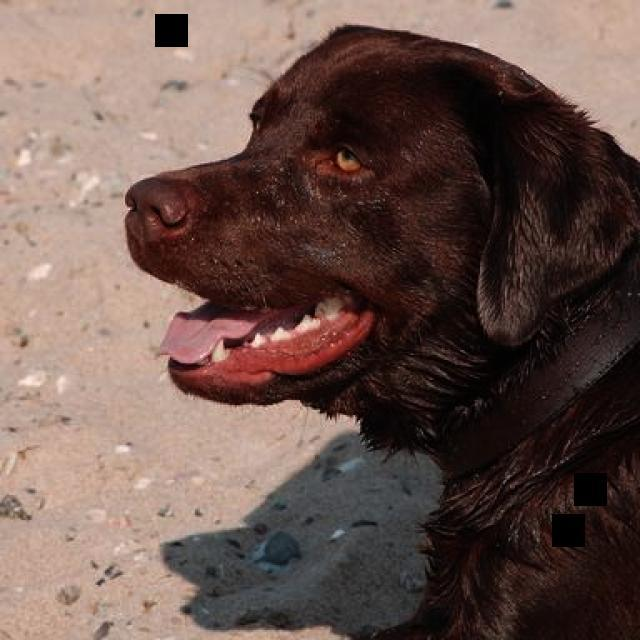adult_dog: (121, 22, 640, 637)
